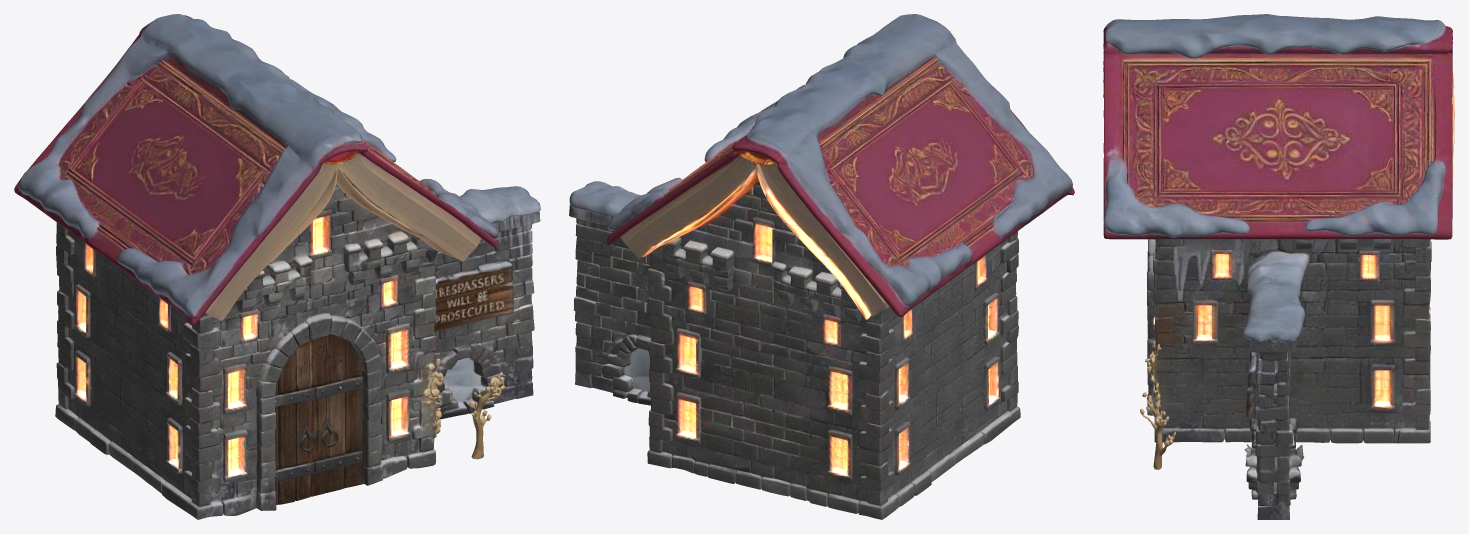
Rendered from selfish-giant.glb.
3 views of the same model, side by side, from view 1: azimuth 30°, elevation 25°; view 2: azimuth 150°, elevation 25°; view 3: azimuth 270°, elevation 25° (orthographic). The views are drawn at different scales.
Visible parts, largest first — view 1: model; view 2: model; view 3: model.
Boxes of the visible parts, box(x1,y1,x2,y2) form: model: box(14, 14, 540, 519); model: box(569, 14, 1074, 519); model: box(1103, 14, 1454, 519).
Bounding box in the file's own units: 1.89 × 1.6 × 1.37.
Materials: 1 (1 with a texture image).
